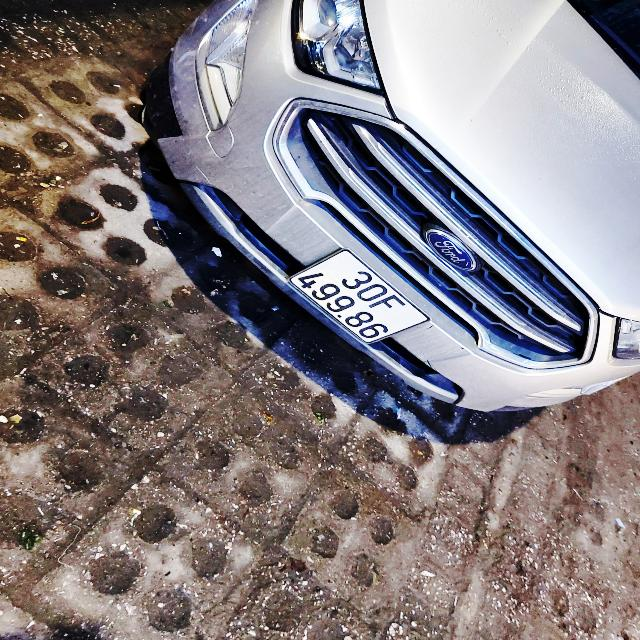license_plate: (285, 247, 436, 347)
